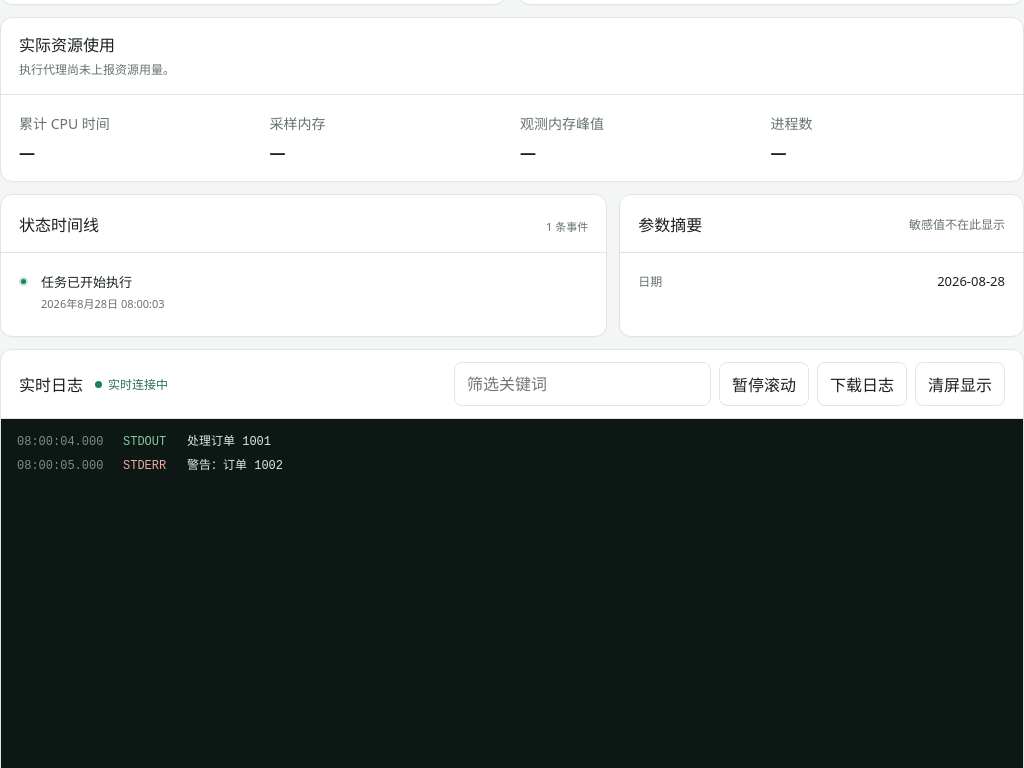
Test: 执行记录与实时日志 › 展示运行上下文并支持实时日志过滤、暂停和仅浏览器清屏
(page scrolled)
Expected: the text "处理订单 1001" is shown, 187,435 -> 271,449
Expected: the text "警告：订单 1002" is shown, 187,459 -> 283,473
Type "警告" into the field named "筛选日志关键词" at (582, 384), box 454,362 -> 711,406
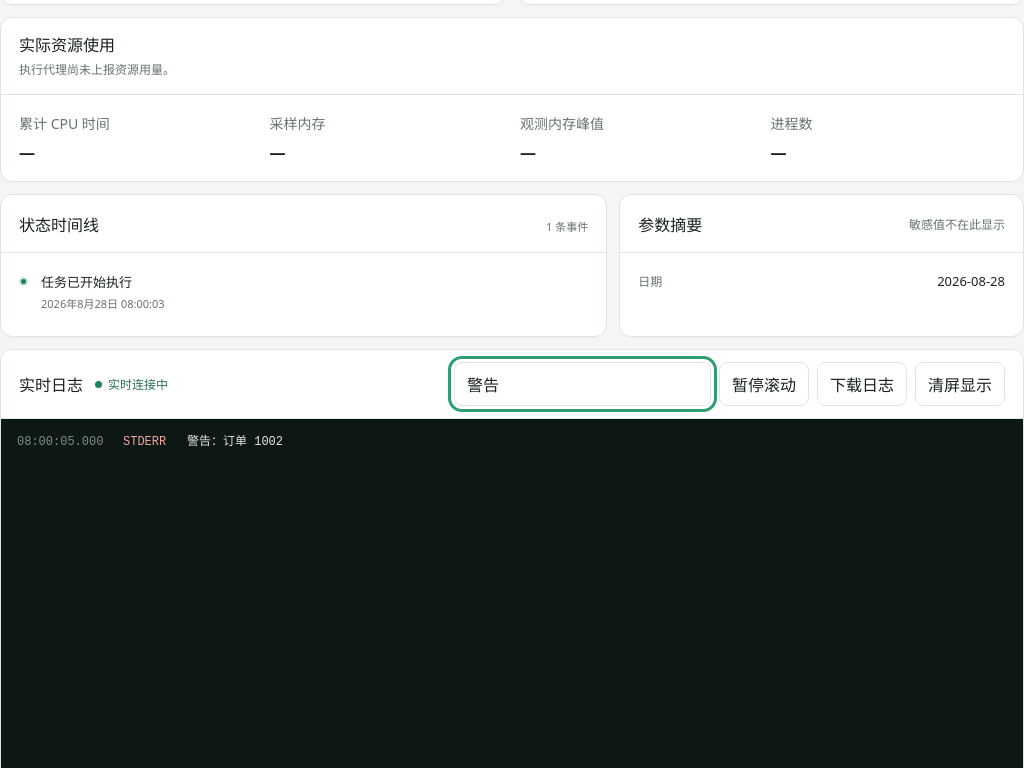
Expected: the text "警告：订单 1002" is shown, 187,435 -> 283,449
Now the text "处理订单 1001" is gone
Click the button with aria-label "暂停自动滚动" at (764, 384), box 719,362 -> 809,406
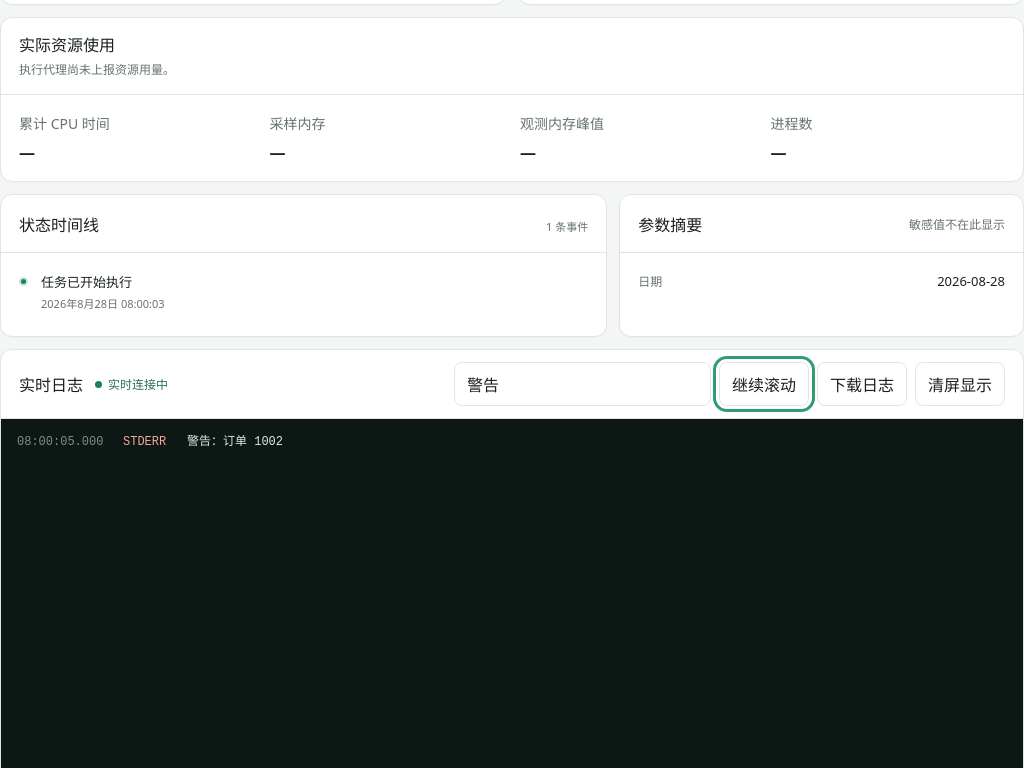
Now the button with aria-label "继续自动滚动" is shown, box 719,362 -> 809,406
Click the button with aria-label "清空浏览器显示" at (960, 384), box 915,362 -> 1005,406
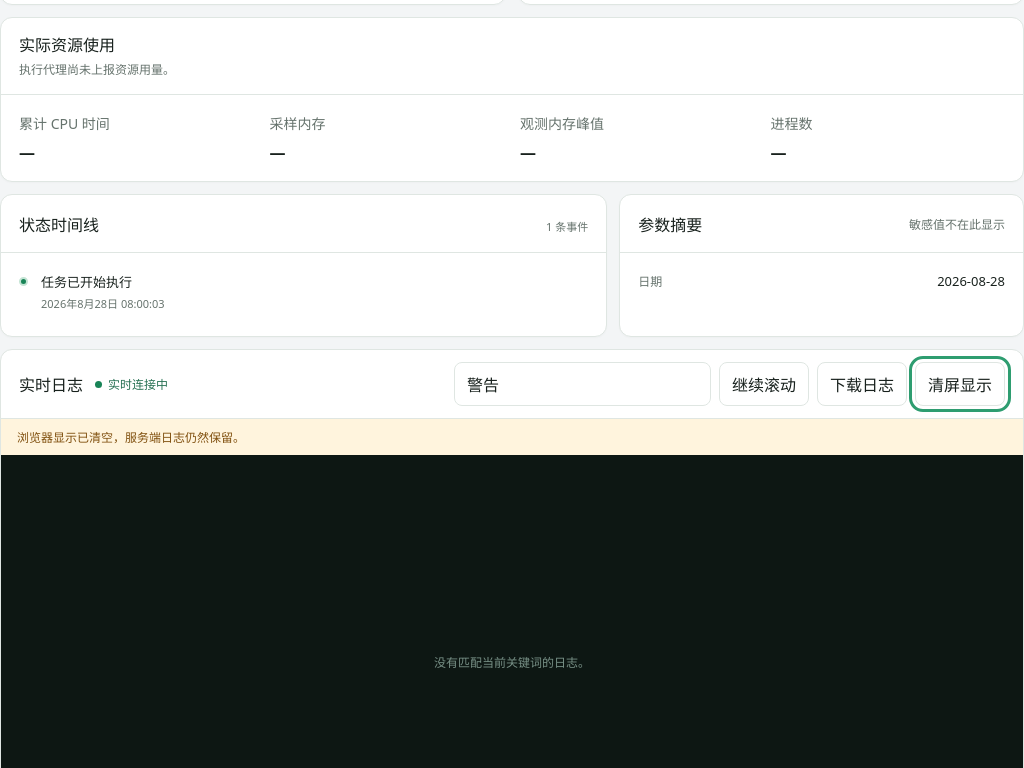
Now the text "浏览器显示已清空，服务端日志仍然保留。" is shown, box 1,419 -> 1023,455
